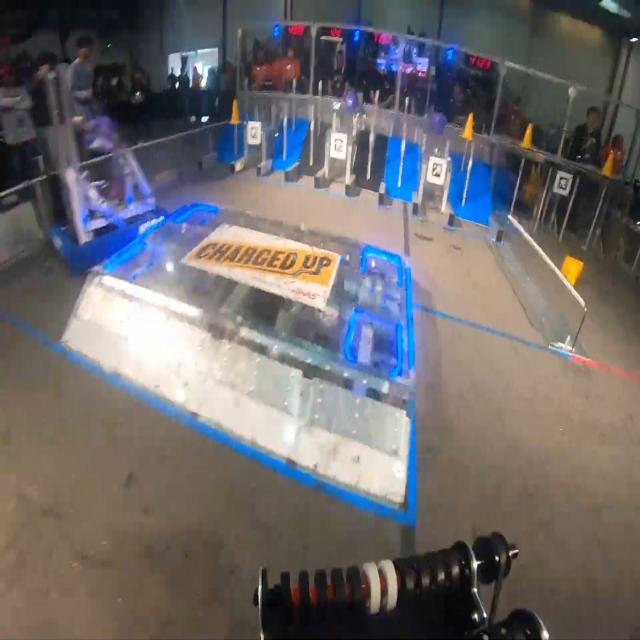robot: (43, 60, 171, 276)
